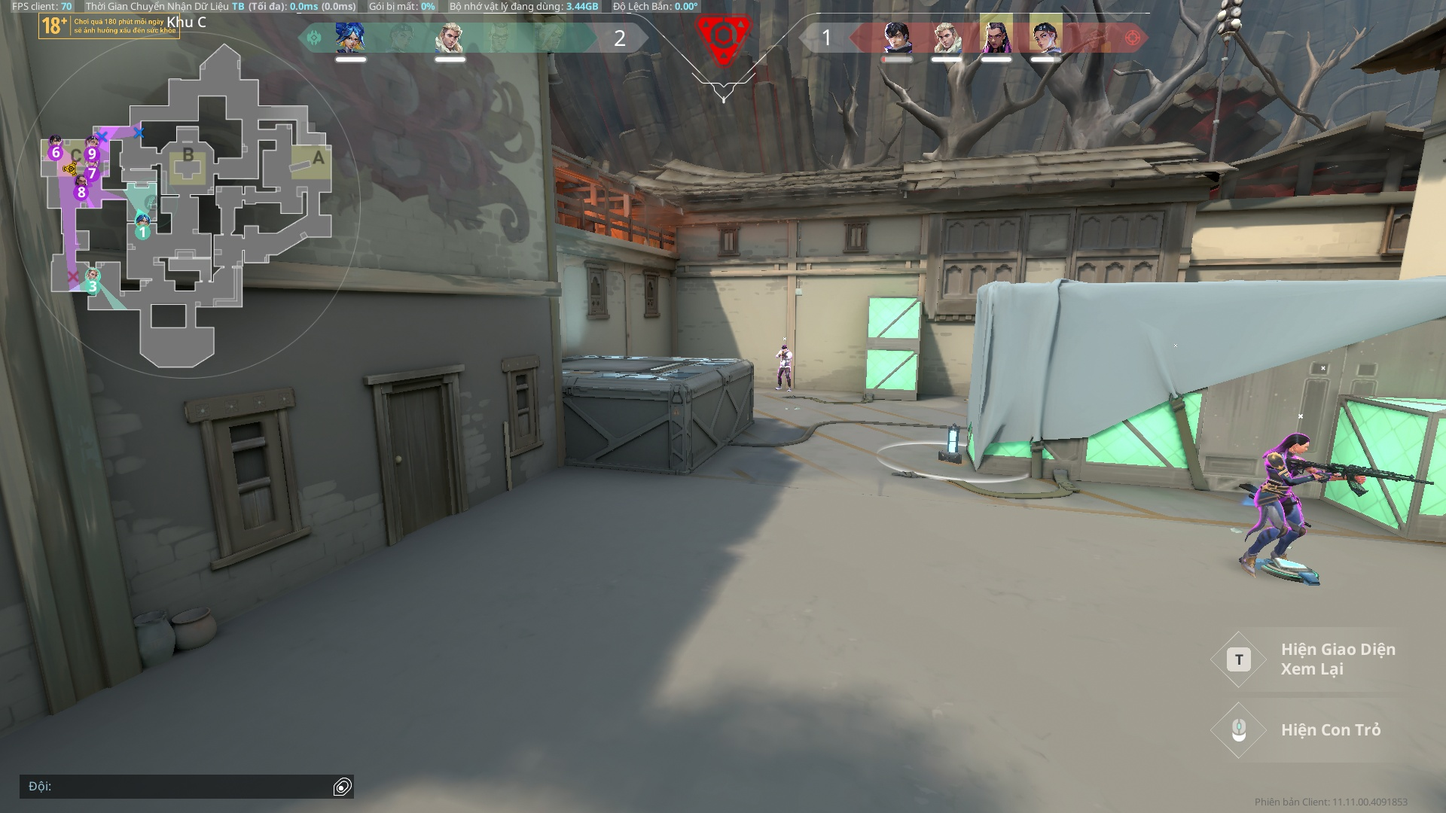body: (1263, 449, 1295, 486), (778, 349, 792, 365)
head: (1287, 430, 1307, 455), (782, 344, 789, 351)
